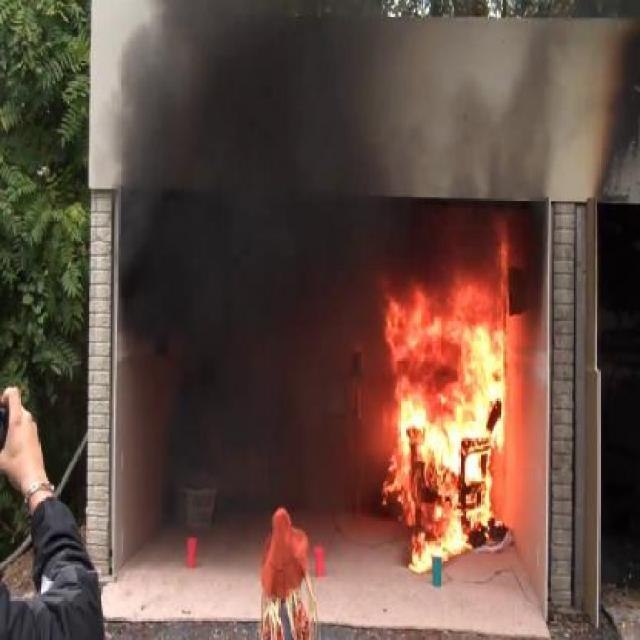fire: (358, 300, 514, 558)
smoke: (117, 36, 366, 538), (334, 74, 604, 198)
